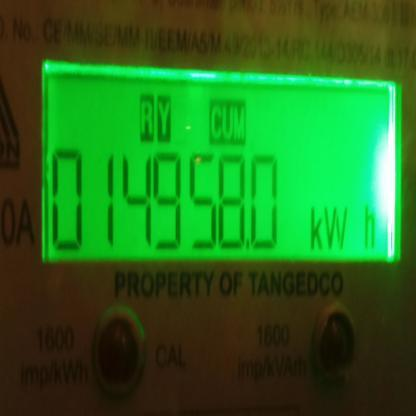.: (299, 204, 380, 253)
0: (244, 237, 253, 253)
1: (48, 147, 85, 253), (248, 149, 281, 250)
2: (106, 152, 117, 248)
5: (123, 153, 153, 250)
6: (186, 147, 215, 251)
9: (215, 149, 249, 252)
:: (152, 153, 184, 249)
